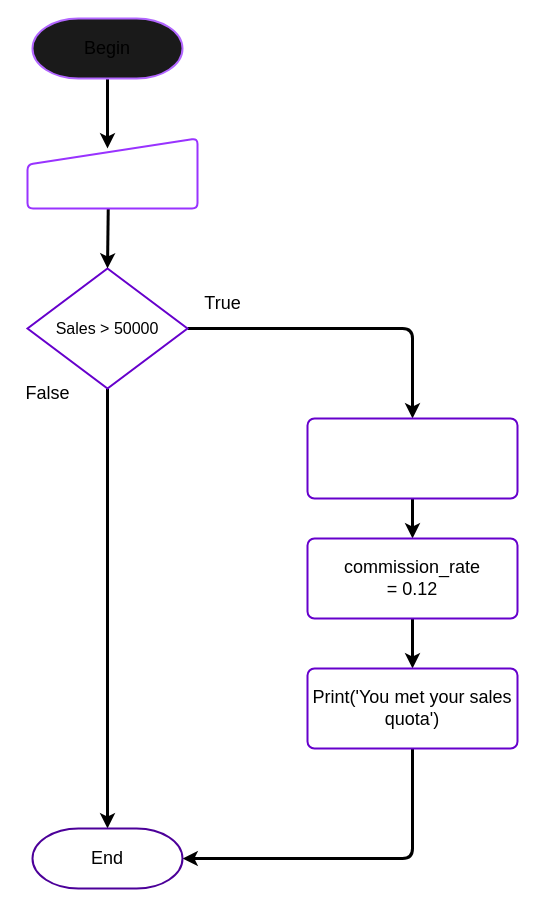
The diagram is 535 pixels wide and 906 high, and some of its shapes have lost their labels. Here are the shapes that lost their labels. From the top down, the centre of each, then its label:
point (112, 173): sales
point (412, 458): bonus = 500.0
